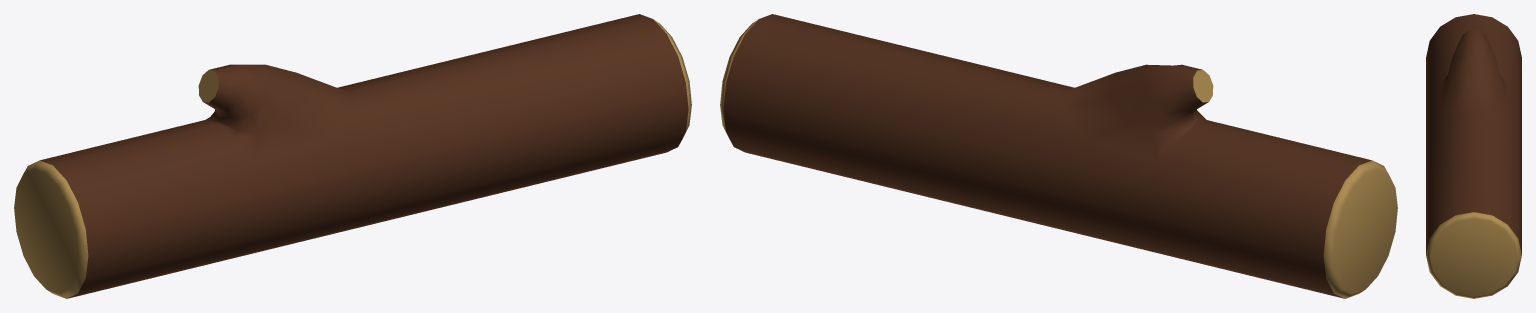
File: WoodFive.fbx
3 views of the same model, side by side, from view 1: azimuth 30°, elevation 25°; view 2: azimuth 150°, elevation 25°; view 3: azimuth 270°, elevation 25° (orthographic). The views are drawn at different scales.
Visible parts, largest first — view 1: WoodFive; view 2: WoodFive; view 3: WoodFive.
Boxes of the visible parts, x1,y1,x2,y2 form: WoodFive: (14,14,691,298); WoodFive: (720,14,1397,298); WoodFive: (1426,14,1521,298).
Bounding box in the file's own units: 200 × 57.25 × 40.
